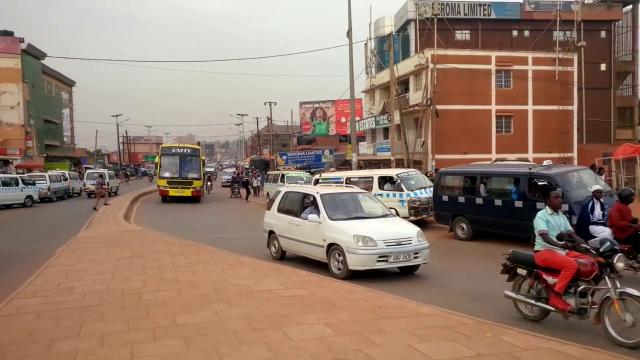bus: (156, 142, 206, 204)
car: (264, 178, 433, 295)
motorcycle: (500, 223, 639, 353), (228, 178, 242, 202), (205, 175, 214, 195)
van: (434, 159, 617, 244), (432, 162, 532, 238), (320, 168, 428, 221), (265, 169, 315, 202), (0, 174, 36, 211), (30, 172, 69, 202), (83, 169, 121, 198), (56, 171, 84, 198), (220, 168, 236, 187), (145, 165, 155, 176)
